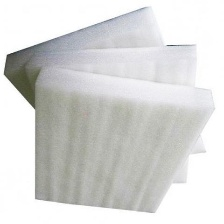foam_box: (0, 3, 209, 159), (28, 60, 219, 217), (21, 41, 199, 189)
